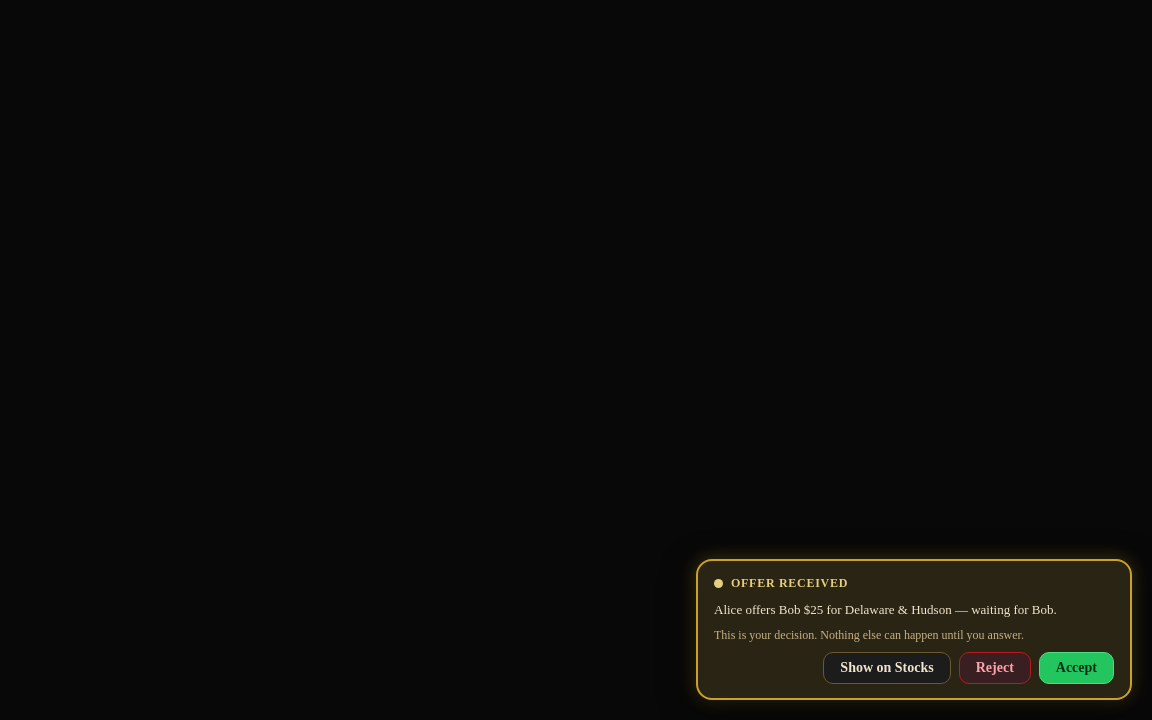
Test: the pointer in the consent slot › the recipient gets Accept, Reject and Show on Stocks; the proposer Rescind and Show; everybody else only the pointer
Later steps or results of the test are not shown.
Click the button "Accept". click: (1076, 668)
box: [1039, 652, 1114, 684]
Click the button "Reject". click: (995, 668)
box: [959, 652, 1031, 684]
Click the button "Show on Stocks". click: (887, 668)
box: [823, 652, 951, 684]
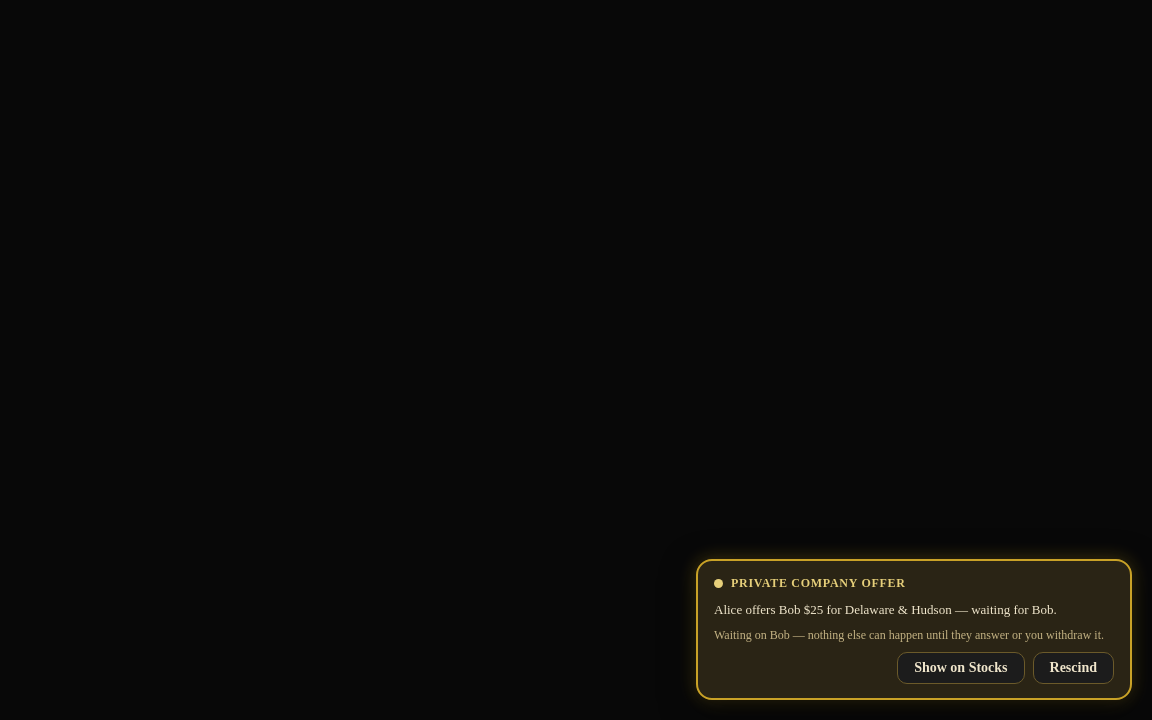
Expected: the text "Waiting on Bob" is shown, [714, 628, 1104, 642]
